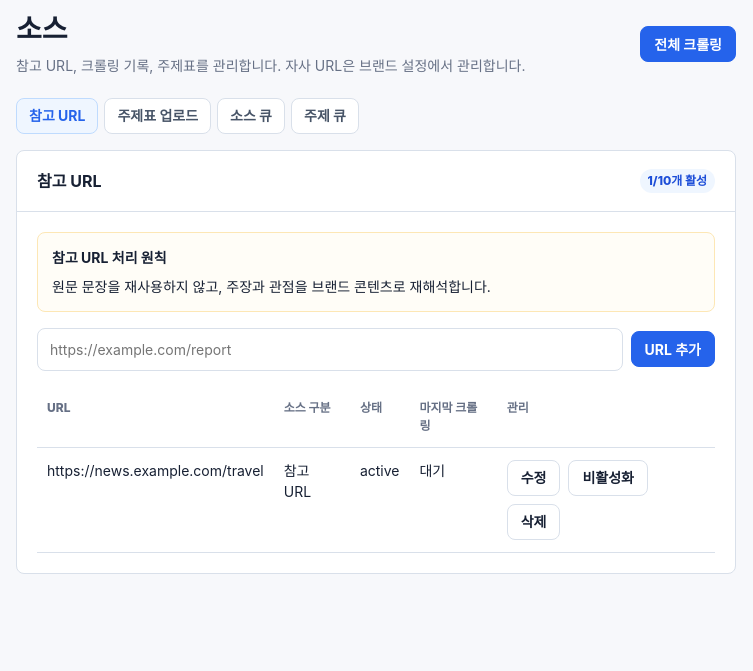
Test: SourcesPage › shows an invalid URL message when source creation returns a URL validation error
In the field named "참고 URL": (330, 349) [37,328,623,371], type "api.example.com"
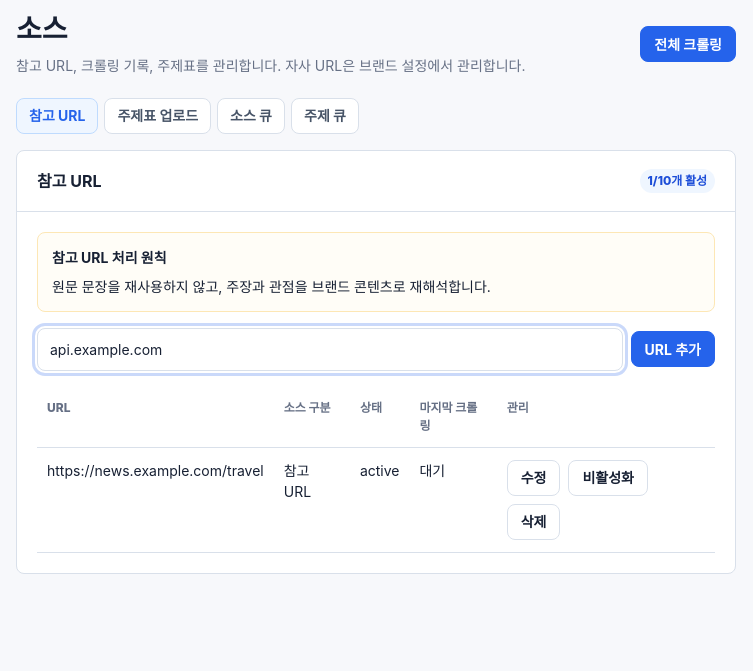
Click the button "URL 추가": (673, 349) [631,331,715,367]
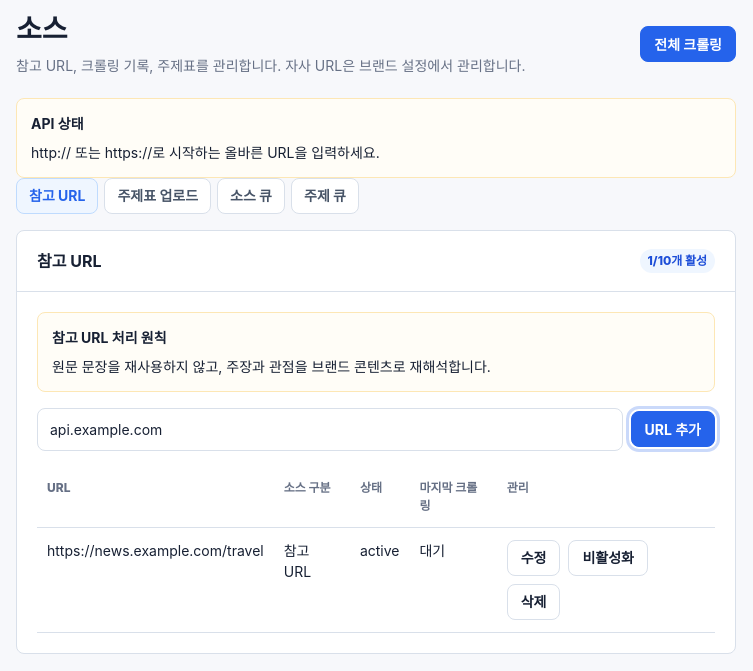
Now the text "http:// 또는 https://로 시작하는 올바른 URL을 입력하세요." is shown, box [31,144,380,161]
